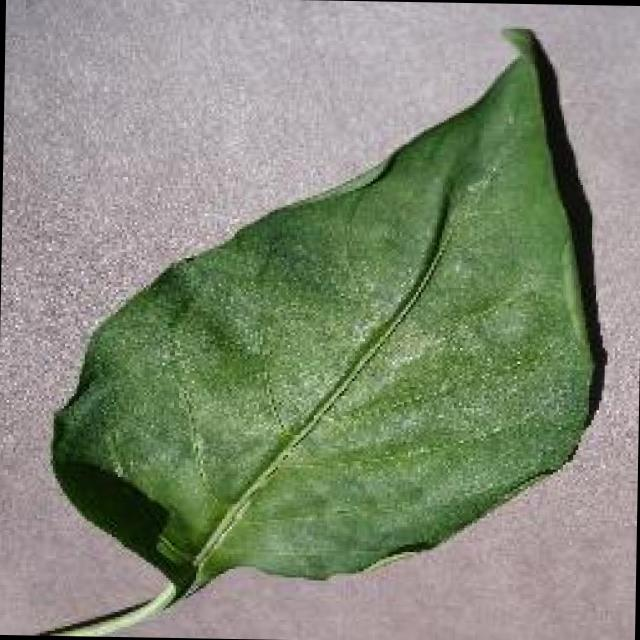Chilli_Healthy: (12, 15, 613, 640)
